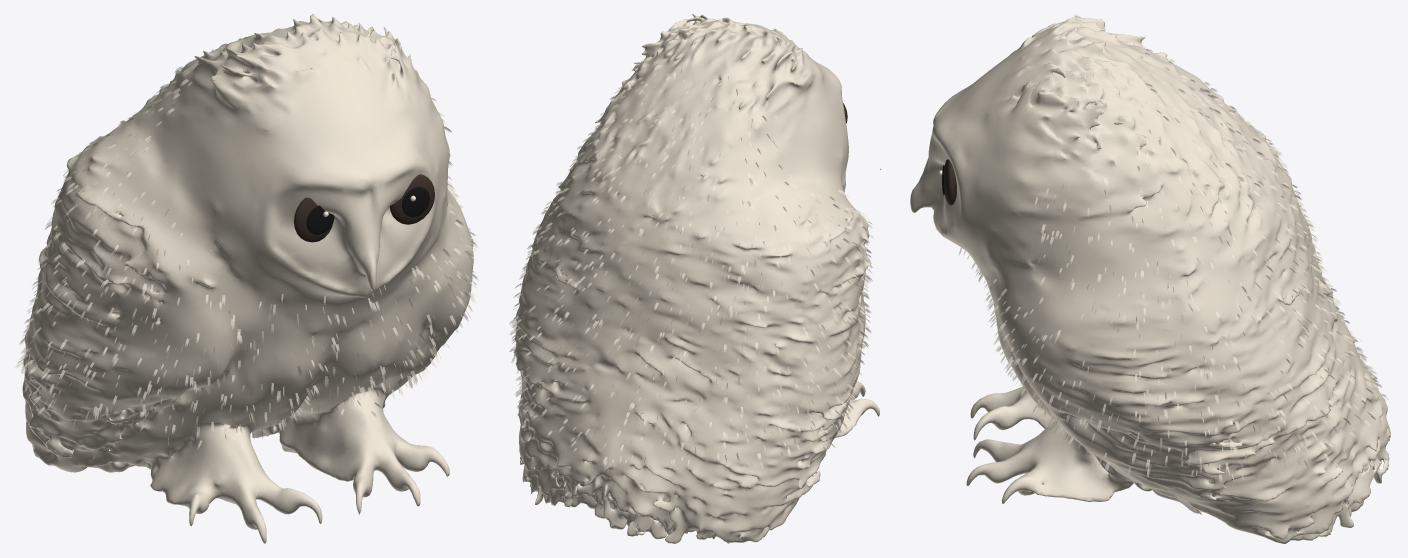
Rendered from run115_eyes_plus_softdown_ART_UNAPPROVED.glb.
3 views of the same model, side by side, from view 1: azimuth 30°, elevation 25°; view 2: azimuth 150°, elevation 25°; view 3: azimuth 270°, elevation 25° (orthographic). The views are drawn at different scales.
Parts seen in each view (by area): view 1: actual_neural_juvenile_sculpt_softened_RESEARCH_ONLY, Run115_physically_sampled_native_mesh_down_not_svg, real_socket_registered_dark_open_eye_1, real_socket_registered_dark_open_eye_-1, nested_small_pupil_1, nested_small_pupil_-1; view 2: actual_neural_juvenile_sculpt_softened_RESEARCH_ONLY, Run115_physically_sampled_native_mesh_down_not_svg; view 3: actual_neural_juvenile_sculpt_softened_RESEARCH_ONLY, Run115_physically_sampled_native_mesh_down_not_svg.
Part boxes in pixels (<box>): actual_neural_juvenile_sculpt_softened_RESEARCH_ONLY: <box>22,14,473,543</box>; Run115_physically_sampled_native_mesh_down_not_svg: <box>15,37,478,449</box>; real_socket_registered_dark_open_eye_1: <box>390,174,434,224</box>; real_socket_registered_dark_open_eye_-1: <box>294,197,332,242</box>; nested_small_pupil_1: <box>402,187,429,216</box>; nested_small_pupil_-1: <box>306,205,334,234</box>; actual_neural_juvenile_sculpt_softened_RESEARCH_ONLY: <box>513,14,881,543</box>; Run115_physically_sampled_native_mesh_down_not_svg: <box>509,70,874,473</box>; actual_neural_juvenile_sculpt_softened_RESEARCH_ONLY: <box>910,14,1390,543</box>; Run115_physically_sampled_native_mesh_down_not_svg: <box>959,46,1388,482</box>.
Bounding box in the file's own units: 1.62 × 1.89 × 1.82.
